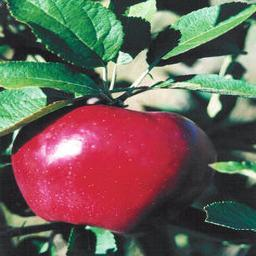apple: (11, 106, 216, 234)
